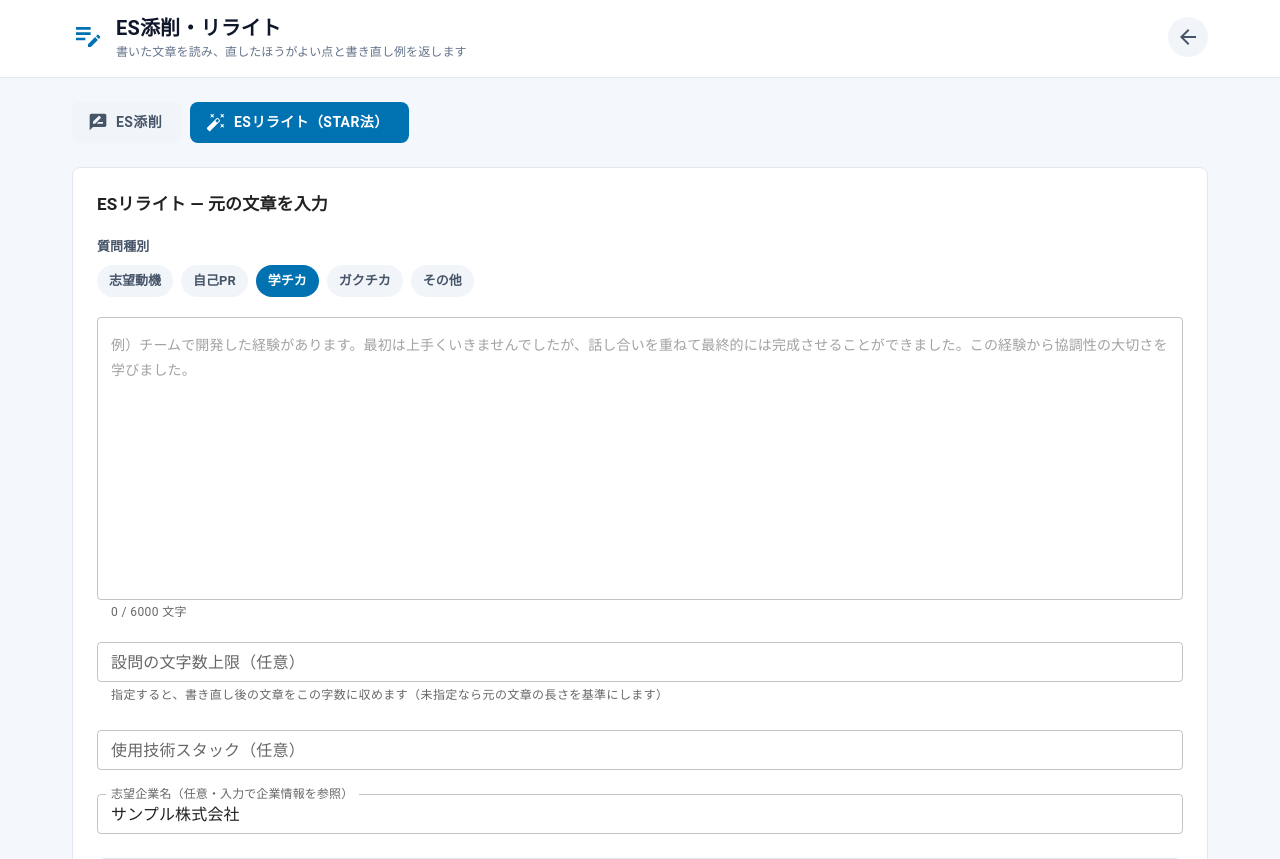
Test: ESRewritePage 設問の文字数上限 (#1523) › 上限未指定なら char_limit を送らず、警告も出さない
Click the button "ES添削" at coordinates (127, 122), box [72, 102, 182, 142]
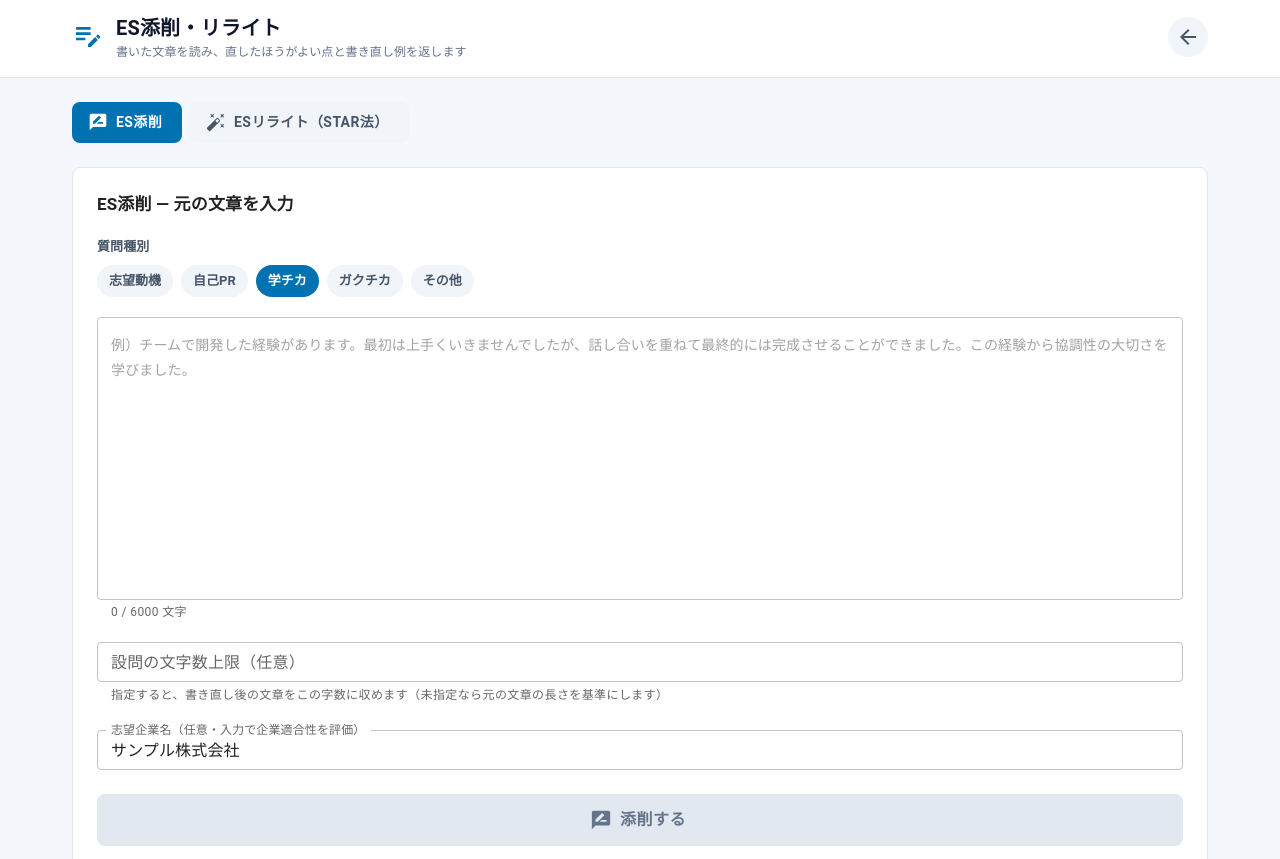
Replace the text in the text box with placeholder "チームで開発した経験があります" with "元の文章です。" at coordinates (640, 458), box [111, 333, 1169, 583]
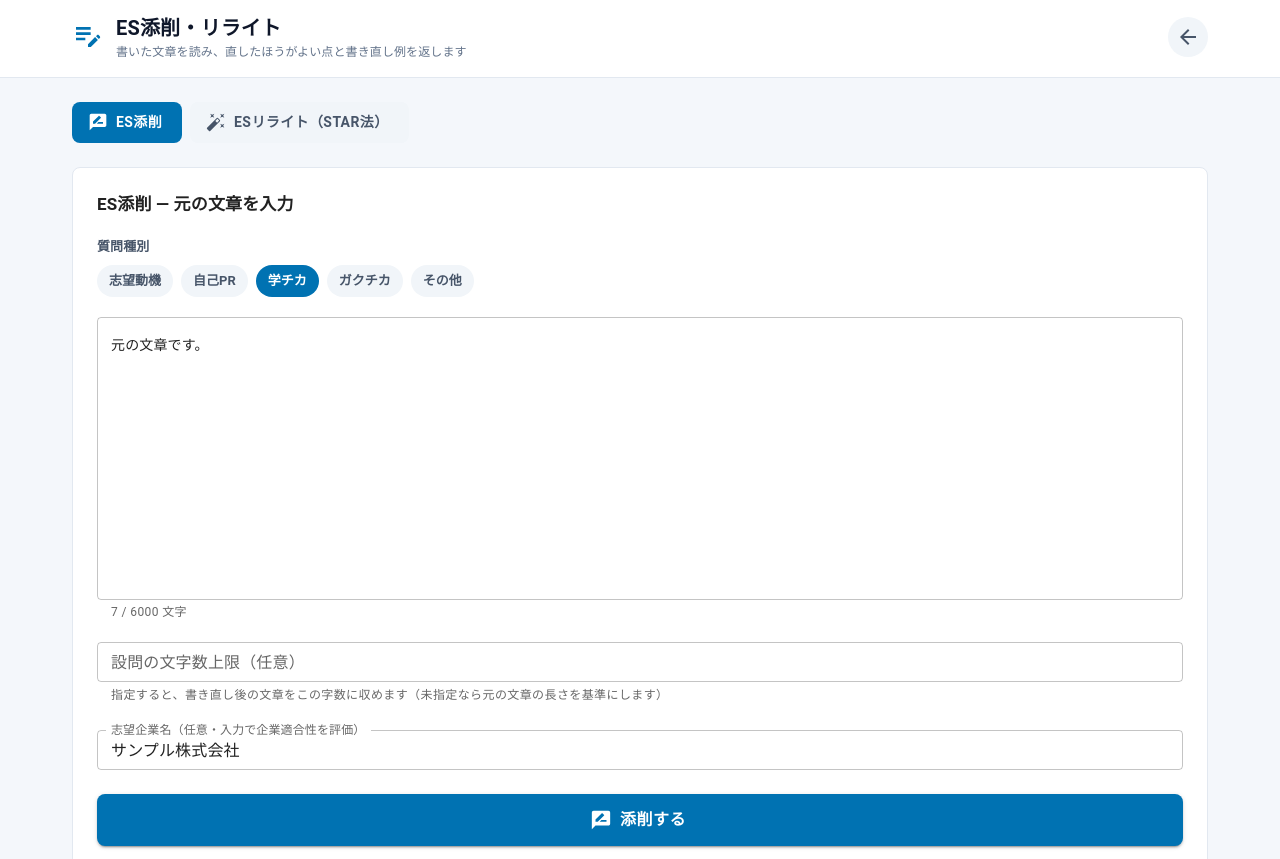
Click the button "添削する" at coordinates (640, 820), box [97, 794, 1183, 846]
(page scrolled)
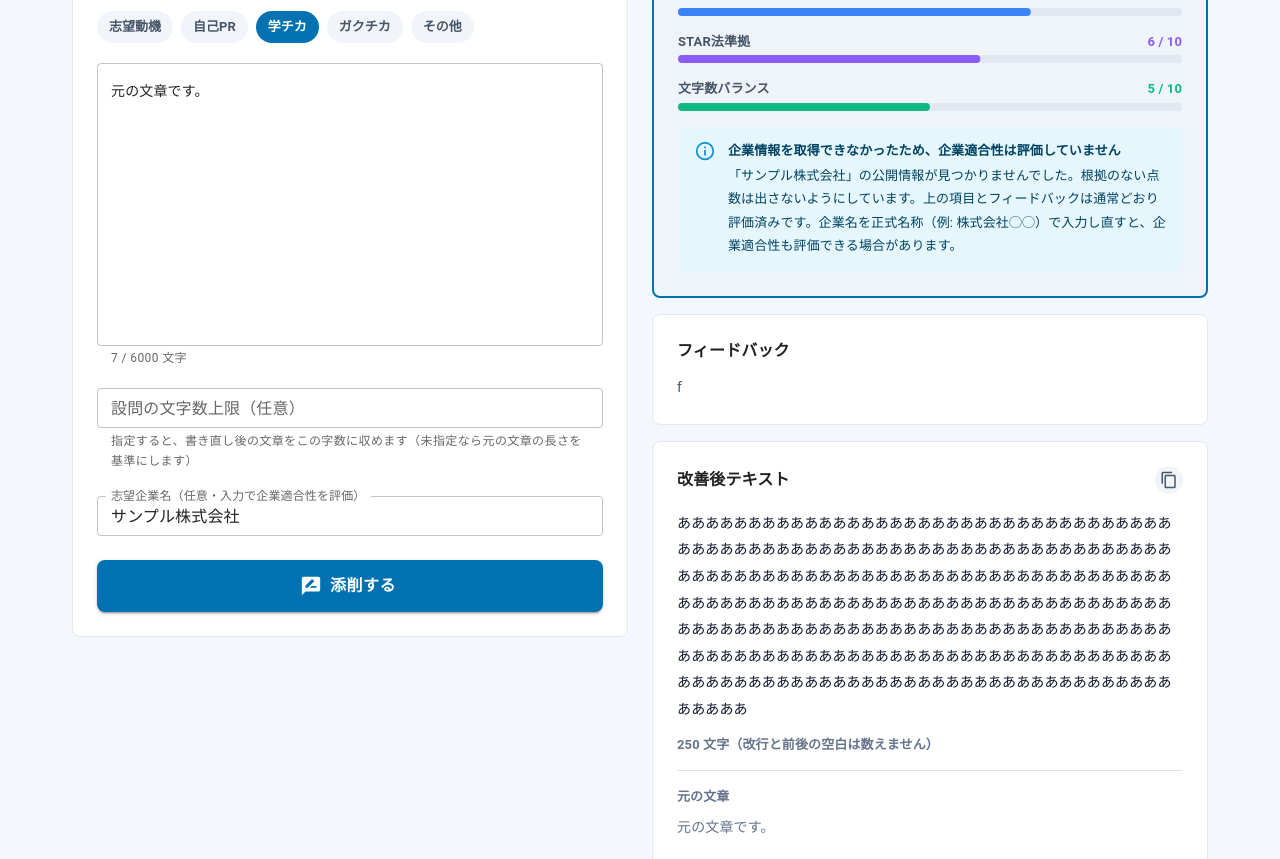
Expected: the text "250 文字（改行と前後の空白は数えません）" is shown, [677, 736, 939, 752]
